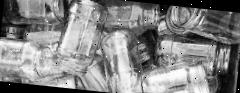glass: (54, 0, 110, 78), (153, 31, 232, 76), (95, 26, 148, 93), (139, 52, 214, 93), (168, 6, 240, 46), (96, 0, 162, 38), (0, 37, 55, 82), (2, 0, 74, 30)
